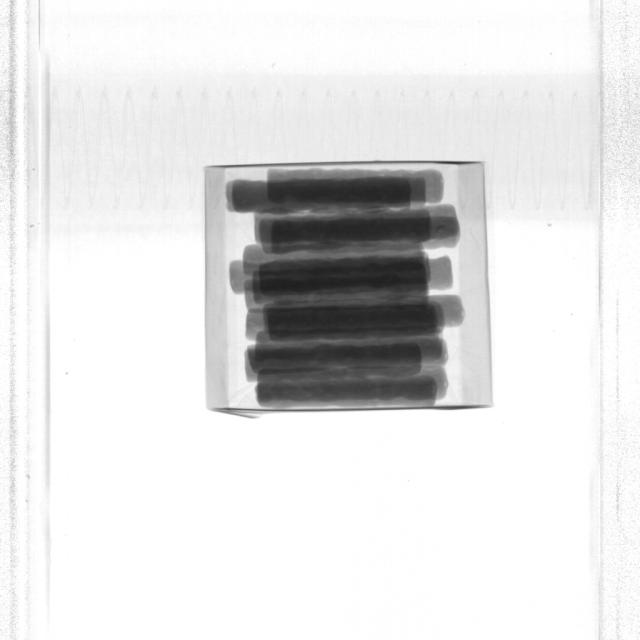ym: (435, 224, 445, 236)
